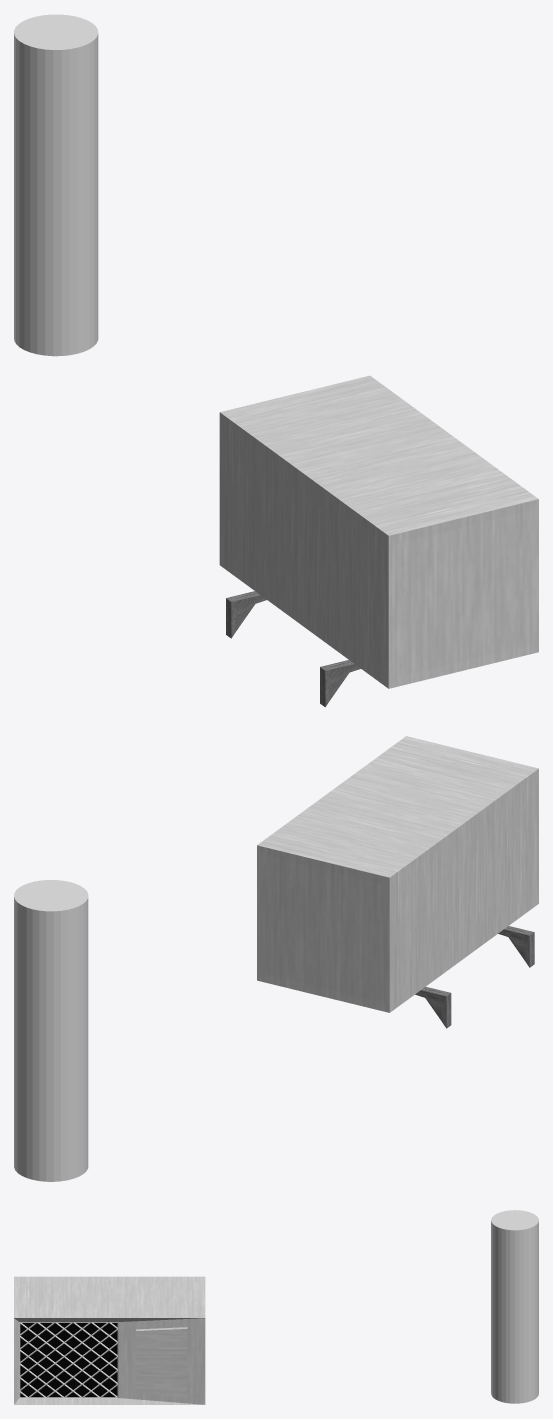
3 renders of one model, top to bottom at view 1: azimuth 30°, elevation 25°; view 2: azimuth 150°, elevation 25°; view 3: azimuth 270°, elevation 25°, orthographic. The views are drawn at different scales.
Visible parts, largest first — view 1: AC, Ref -noimp, Bracket, Bracket2; view 2: AC, Ref -noimp, Bracket, Bracket2; view 3: AC, Ref -noimp.
Boxes of the visible parts, box(x1,y1,x2,y2) form: AC: box(219, 375, 538, 688); Ref -noimp: box(14, 14, 98, 356); Bracket: box(226, 591, 266, 638); Bracket2: box(320, 660, 360, 707); AC: box(257, 736, 538, 1012); Ref -noimp: box(14, 880, 88, 1181); Bracket: box(415, 987, 451, 1028); Bracket2: box(498, 926, 534, 967); AC: box(14, 1276, 205, 1404); Ref -noimp: box(491, 1210, 538, 1403).
Bounding box in the file's own units: 1.26 × 2.24 × 5.49.
Materials: 3 (2 with a texture image).
